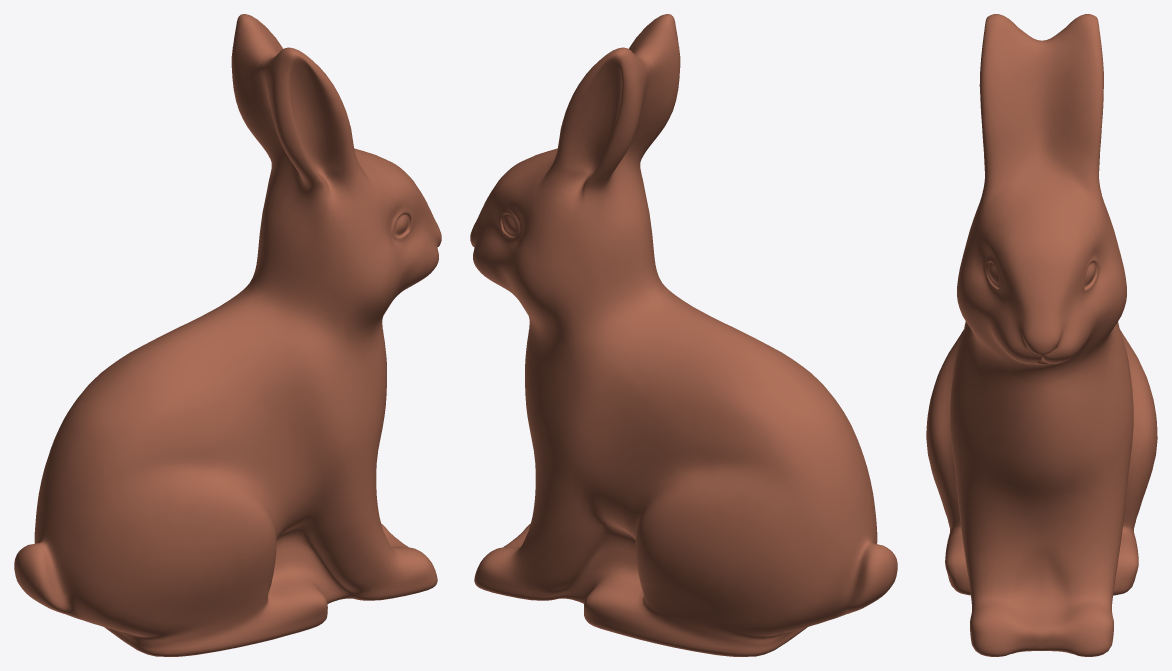
The model's file is bunnyDraco.gltf.
3 renders of one model, left to right at view 1: azimuth 30°, elevation 25°; view 2: azimuth 150°, elevation 25°; view 3: azimuth 270°, elevation 25°, orthographic.
Parts seen in each view (by area): view 1: Mesh_0; view 2: Mesh_0; view 3: Mesh_0.
Boxes of the visible parts, x1,y1,x2,y2 form: Mesh_0: [14, 14, 441, 656]; Mesh_0: [470, 14, 897, 656]; Mesh_0: [926, 14, 1157, 656].
Size of the model in its own units: 1.86 by 2.42 by 0.8812.
